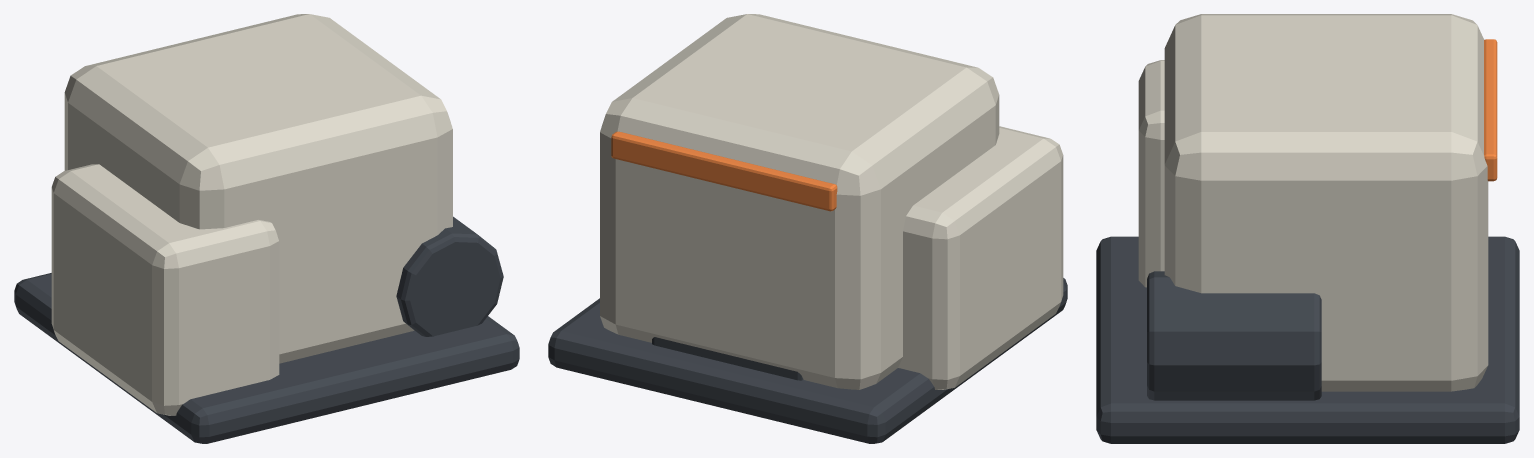
File: human_barracks_t2.glb
The picture shows the model from 3 angles, left to right: view 1: azimuth 30°, elevation 25°; view 2: azimuth 150°, elevation 25°; view 3: azimuth 270°, elevation 25°; orthographic projection. The views are drawn at different scales.
Visible parts, largest first — view 1: bay, armory_wing, muster_pad, ammo_drum; view 2: bay, armory_wing, muster_pad, doctrine_light, deployment_door; view 3: bay, muster_pad, ammo_drum, armory_wing, doctrine_light.
Boxes of the visible parts, <box> form: bay: <box>64,14,452,363</box>; armory_wing: <box>51,164,279,415</box>; muster_pad: <box>14,273,519,443</box>; ammo_drum: <box>396,216,503,336</box>; bay: <box>600,14,999,389</box>; armory_wing: <box>898,126,1063,389</box>; muster_pad: <box>548,278,1067,443</box>; doctrine_light: <box>611,131,837,211</box>; deployment_door: <box>652,337,803,380</box>; bay: <box>1164,14,1488,391</box>; muster_pad: <box>1096,236,1519,443</box>; ammo_drum: <box>1147,271,1321,400</box>; armory_wing: <box>1138,60,1164,287</box>; doctrine_light: <box>1484,39,1497,181</box>.
Bounding box in the file's own units: 2.45 × 1.72 × 2.3.
